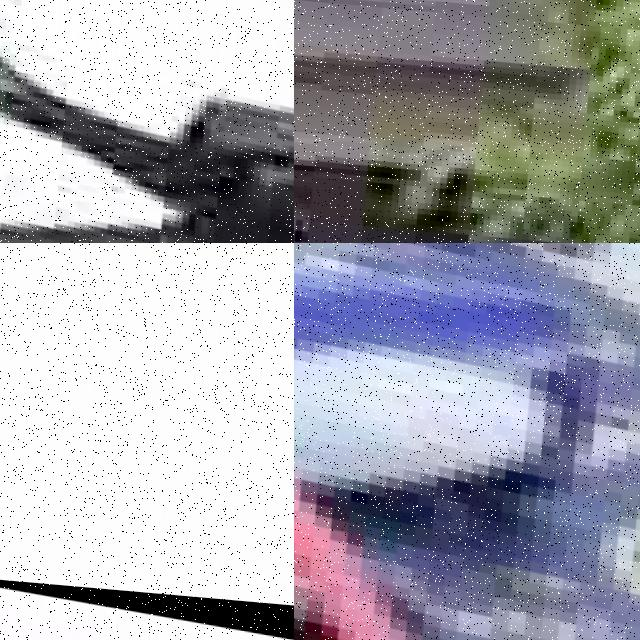0: (0, 0, 294, 243)
drone: (294, 243, 640, 640)
